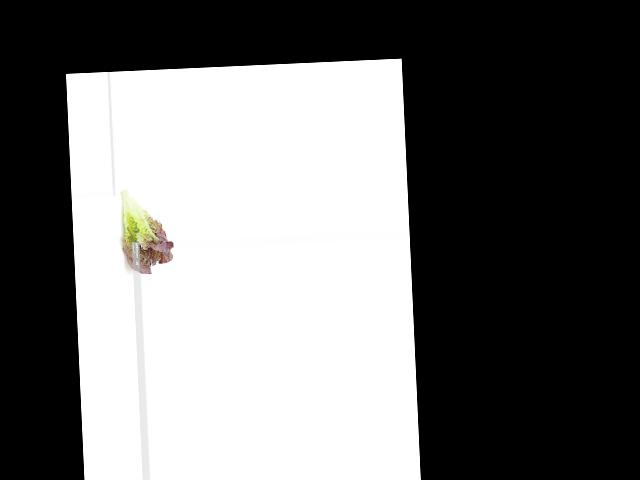lettuce: (115, 184, 175, 277)
